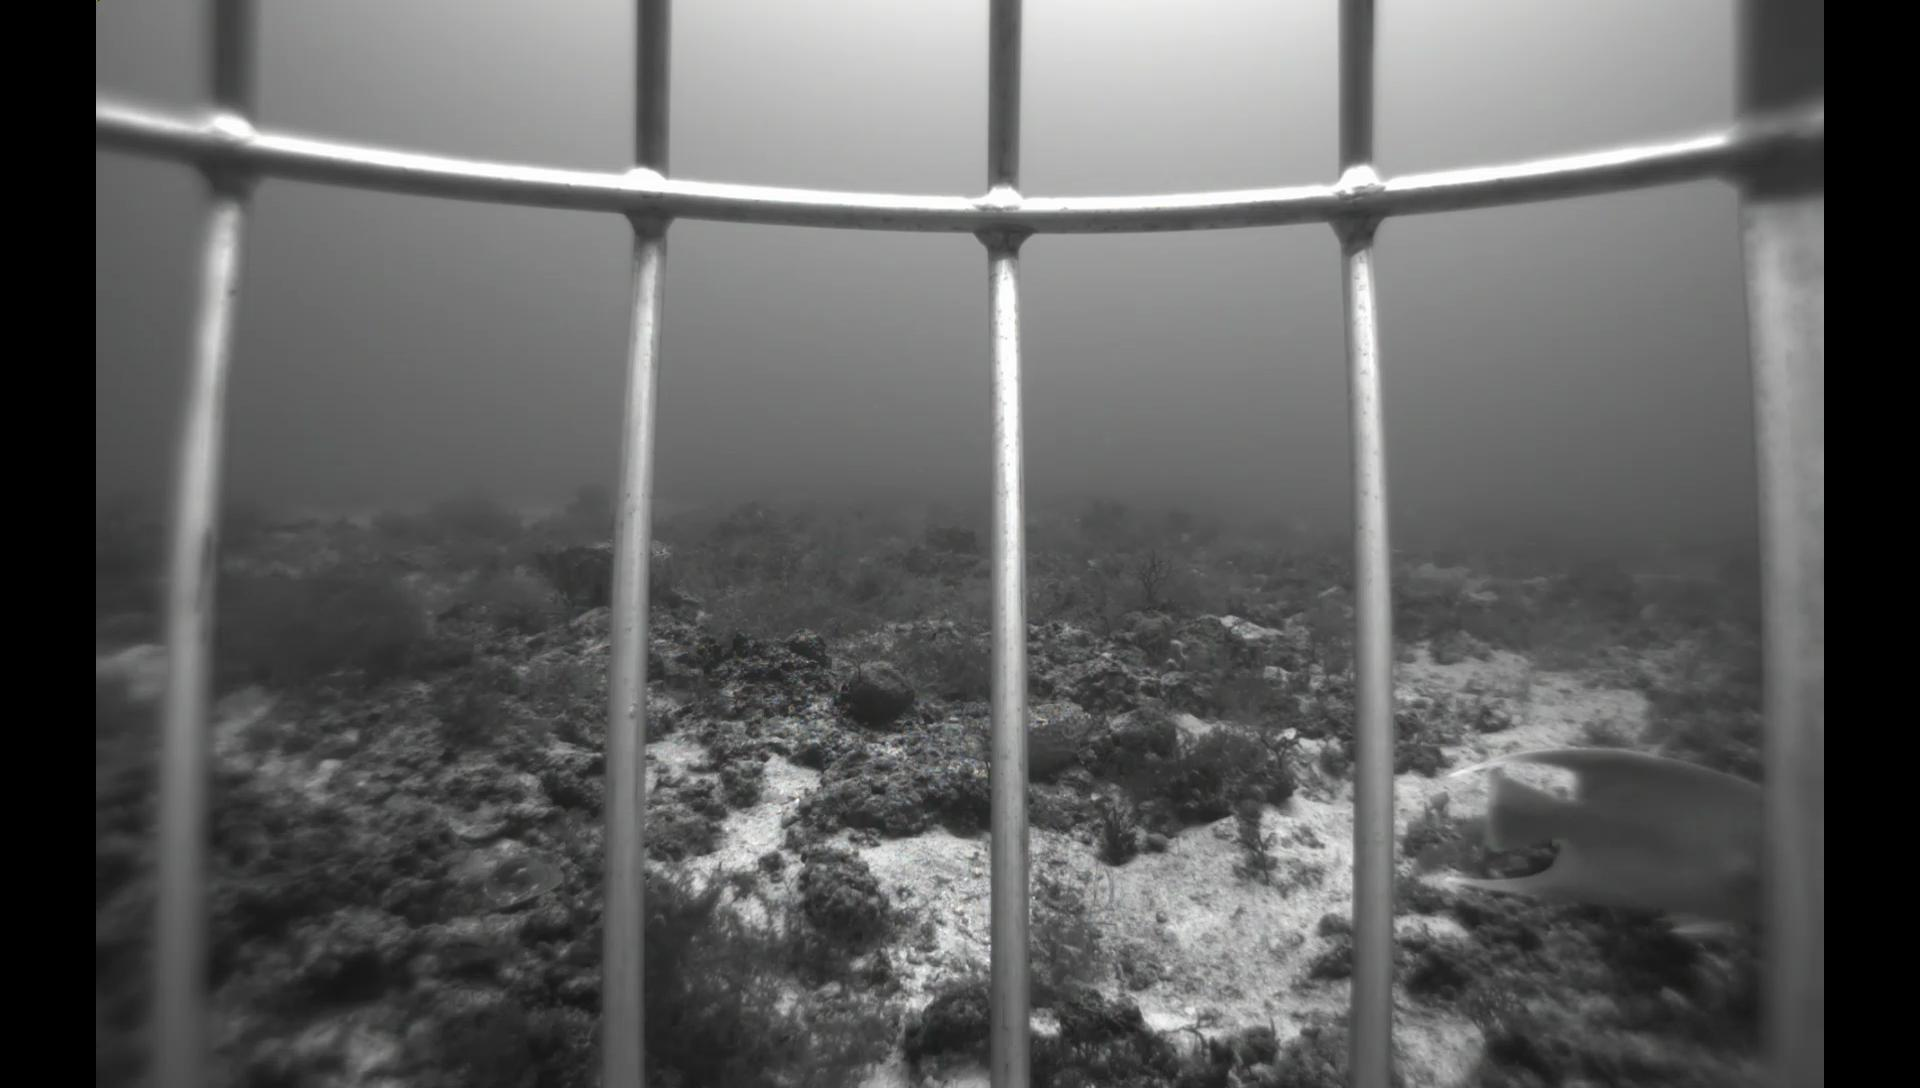HOLACANTHUSBERMUDENSIS-170290102: (1410, 731, 1774, 950)
SERRANUSANNULARIS-170024201: (417, 935, 524, 976)
